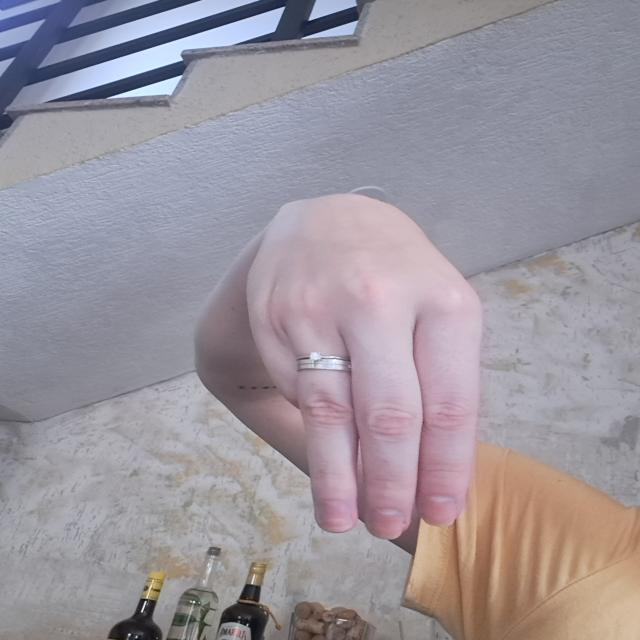M: (238, 182, 494, 551)
